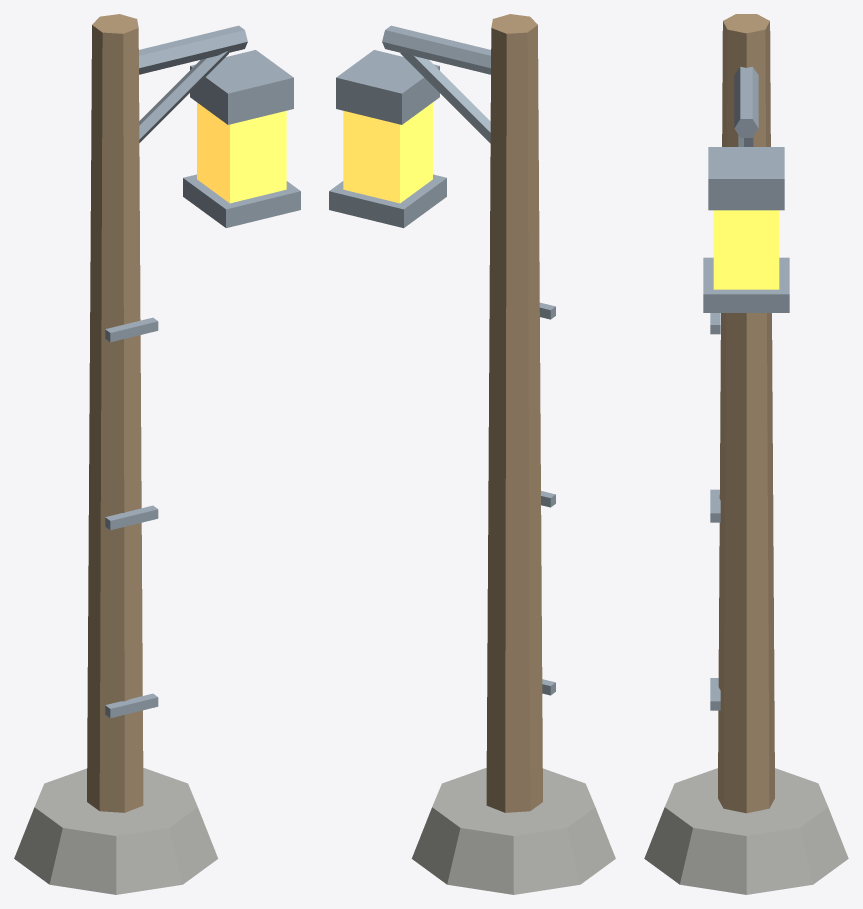
File: wipe-day-survival-island-lantern-post-4cd72414__27472.glb
3 views of the same model, side by side, from view 1: azimuth 30°, elevation 25°; view 2: azimuth 150°, elevation 25°; view 3: azimuth 270°, elevation 25° (orthographic).
Visible parts, largest first — view 1: lantern-post; view 2: lantern-post; view 3: lantern-post.
Part boxes in pixels (x1,y1,x2,y2): lantern-post: [14, 14, 300, 894]; lantern-post: [329, 14, 615, 894]; lantern-post: [644, 14, 848, 894].
Size of the model in its own units: 0.8269 by 2.64 by 0.5909.
